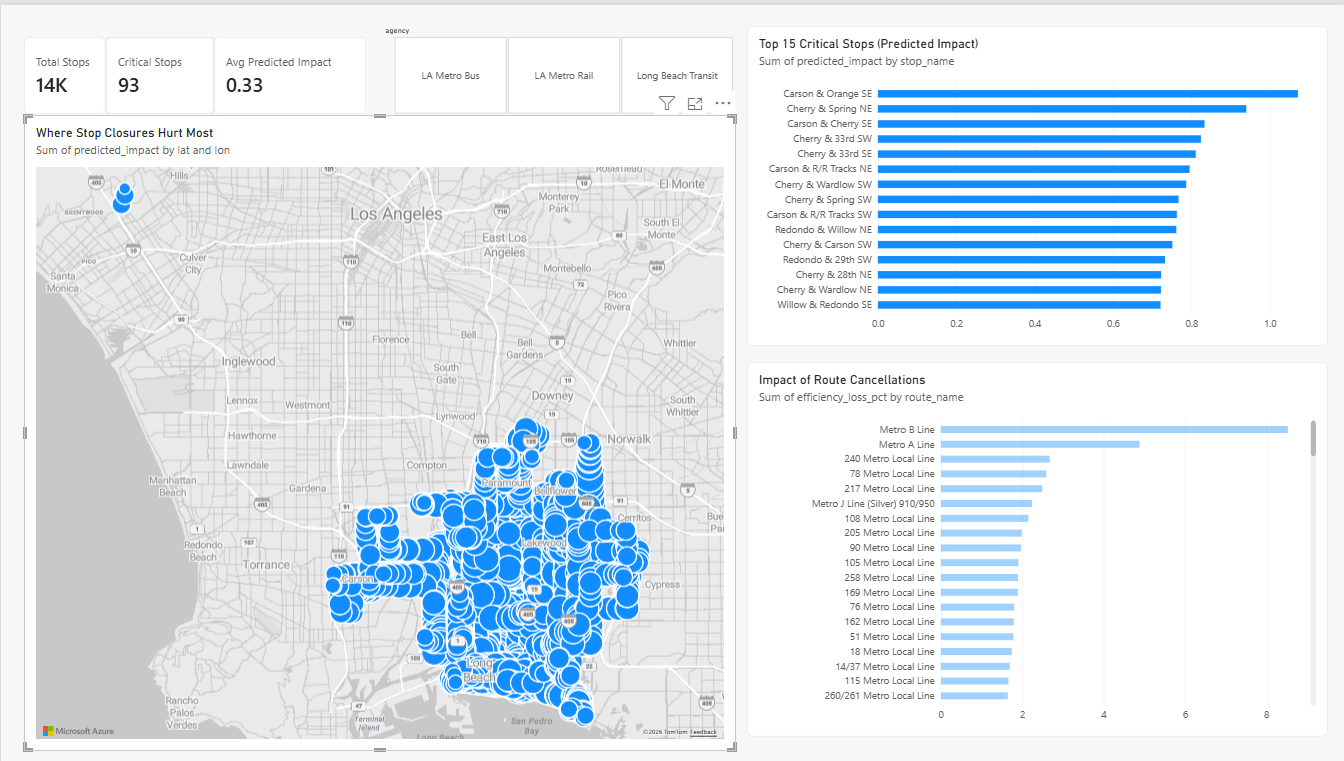

The page's visual inventory and layout, read from the dashboard file:
{"tool":"powerbi","page":{"name":"Page 1","canvas":[1920,1080],"ordinal":0},"visuals":[{"type":"cardVisual","fields":{"Data":["stop_metrics.Total Stops"]},"box":[33.6,45.2,116.7,110.9],"z":0},{"type":"cardVisual","fields":{"Data":["stop_metrics.Critical Stops"]},"box":[150.3,45.2,154.7,110.9],"z":1000},{"type":"cardVisual","fields":{"Data":["stop_metrics.Avg Predicted Impact"]},"box":[304.9,45.2,217.4,110.9],"z":2000},{"type":"azureMap","title":"Where Stop Closures Hurt Most","fields":{"Size":["Sum(stop_metrics.predicted_impact)"],"X":["stops.lon"],"Y":["stops.lat"]},"box":[33.3,156.7,1016.7,908.3],"z":3000},{"type":"clusteredBarChart","title":"Top 15 Critical Stops (Predicted Impact)","fields":{"Category":["stops.stop_name"],"Y":["Sum(stop_metrics.predicted_impact)"]},"box":[1065,30,830,456.7],"z":4000},{"type":"clusteredBarChart","title":"Impact of Route Cancellations","fields":{"Category":["route_impacts.route_name"],"Y":["Sum(route_impacts.efficiency_loss_pct)"]},"box":[1065,510,830,535],"z":5000},{"type":"slicer","fields":{"Values":["route_impacts.agency"]},"box":[541.7,30,523.3,126.7],"z":5001}]}

Visuals, with their boxes in screenshot pixels (x1, y1, x2, y2), scaled from the page's 1920x1080 canvas onto the 1344x761 screenshot:
cardVisual - stop_metrics.Total Stops: Rect(24, 32, 105, 110)
cardVisual - stop_metrics.Critical Stops: Rect(105, 32, 214, 110)
cardVisual - stop_metrics.Avg Predicted Impact: Rect(213, 32, 366, 110)
"Where Stop Closures Hurt Most" azureMap: Rect(23, 110, 735, 750)
"Top 15 Critical Stops (Predicted Impact)" clusteredBarChart: Rect(746, 21, 1326, 343)
"Impact of Route Cancellations" clusteredBarChart: Rect(746, 359, 1326, 736)
slicer - route_impacts.agency: Rect(379, 21, 746, 110)
